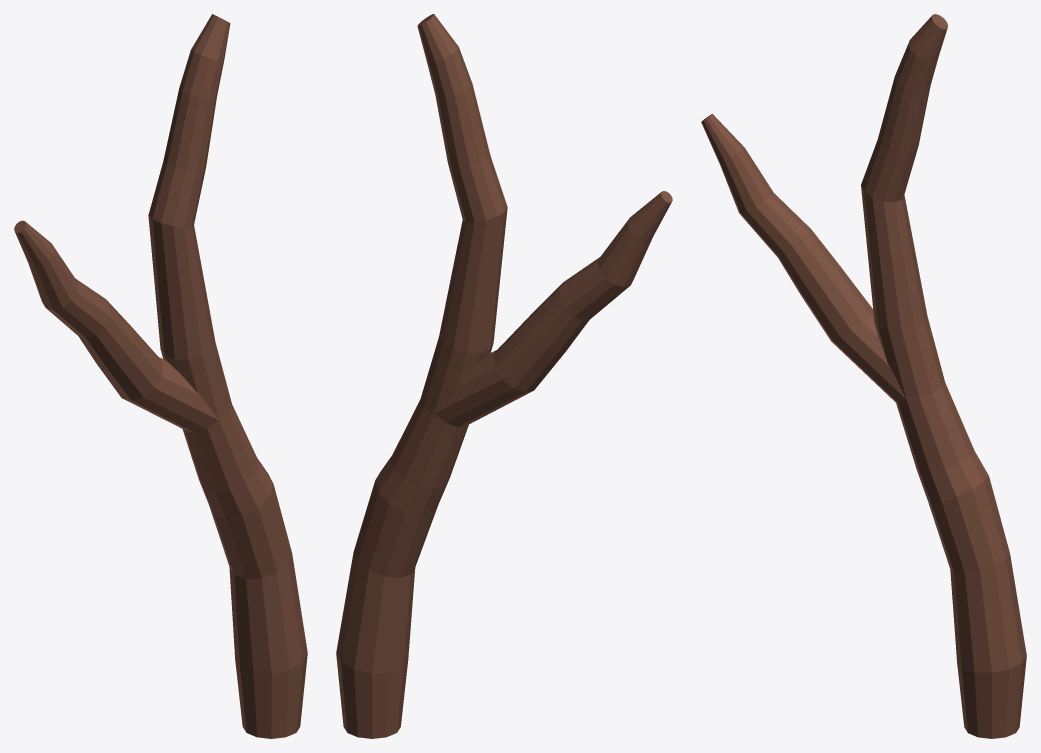
File: Stick 1.2.fbx
The picture shows the model from 3 angles, left to right: view 1: azimuth 30°, elevation 25°; view 2: azimuth 150°, elevation 25°; view 3: azimuth 330°, elevation 25°; orthographic projection. The views are drawn at different scales.
Parts seen in each view (by area): view 1: Stick A2; view 2: Stick A2; view 3: Stick A2.
Boxes of the visible parts, x1=… form: Stick A2: x1=14, y1=14, x2=307, y2=738; Stick A2: x1=336, y1=14, x2=672, y2=738; Stick A2: x1=701, y1=14, x2=1026, y2=738.
Size of the model in its own units: 919 by 2063 by 236.
